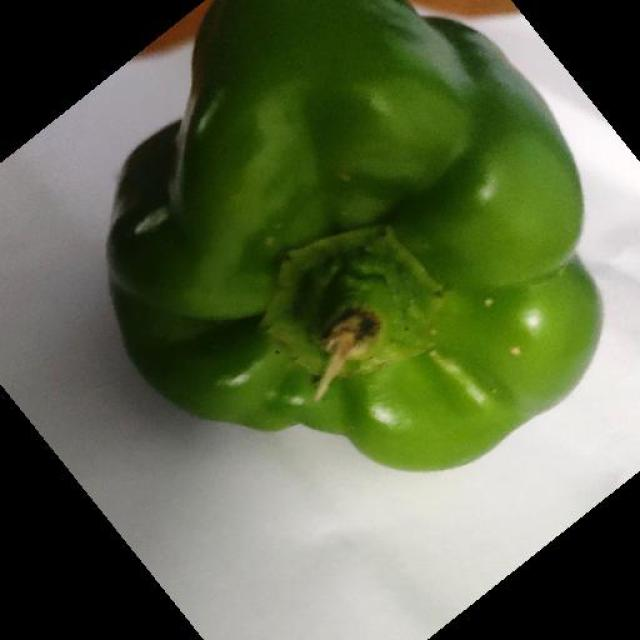Fresh_Capsicum: (106, 0, 590, 496)
